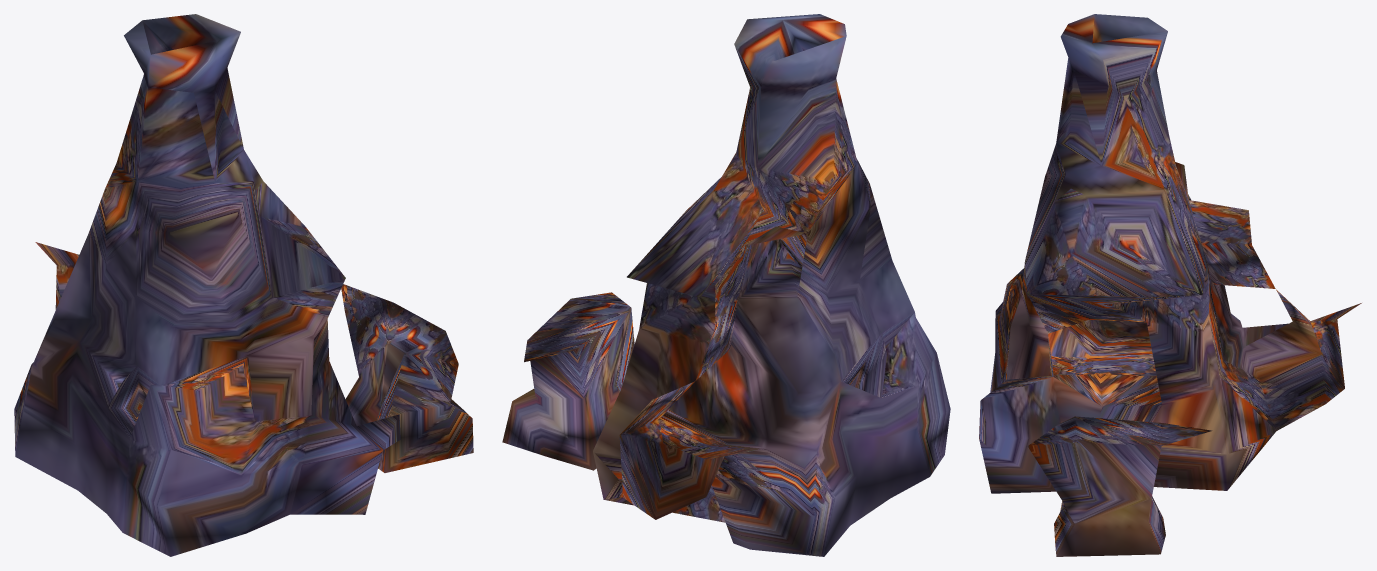
The model's file is forge-furnace-far-DTAk4AZJ.glb.
3 renders of one model, left to right at view 1: azimuth 30°, elevation 25°; view 2: azimuth 150°, elevation 25°; view 3: azimuth 270°, elevation 25°, orthographic. The views are drawn at different scales.
Visible parts, largest first — view 1: tripo_node_da437ab2-c1d7-4c21-8dac-ea5682976a65; view 2: tripo_node_da437ab2-c1d7-4c21-8dac-ea5682976a65; view 3: tripo_node_da437ab2-c1d7-4c21-8dac-ea5682976a65.
Part boxes in pixels (x1=…): tripo_node_da437ab2-c1d7-4c21-8dac-ea5682976a65: x1=14, y1=14, x2=473, y2=556; tripo_node_da437ab2-c1d7-4c21-8dac-ea5682976a65: x1=502, y1=14, x2=950, y2=556; tripo_node_da437ab2-c1d7-4c21-8dac-ea5682976a65: x1=979, y1=14, x2=1361, y2=556.
Bounding box in the file's own units: 0.8301 × 0.9953 × 0.8432.
1 material, 1 textured.
